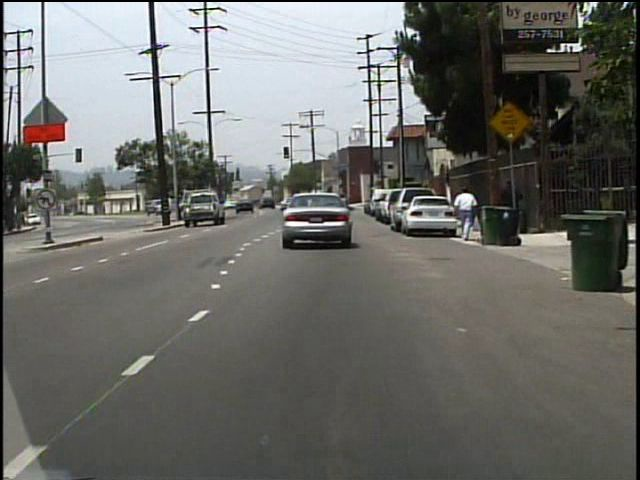person: (452, 185, 478, 243)
